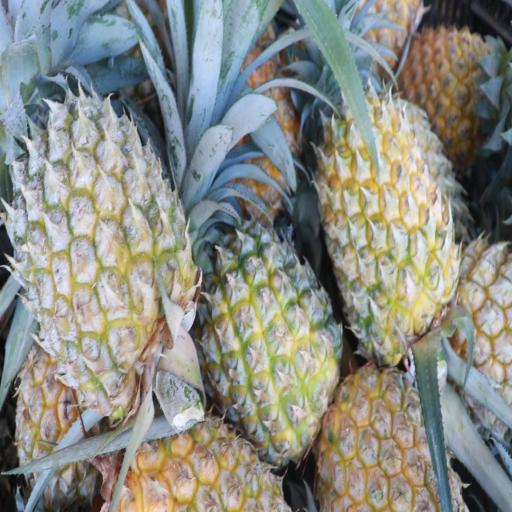------------------------------: (18, 104, 193, 394), (209, 236, 338, 448)
Pineapple - v8 v1: (322, 99, 452, 348), (320, 369, 461, 512), (405, 19, 510, 146)
